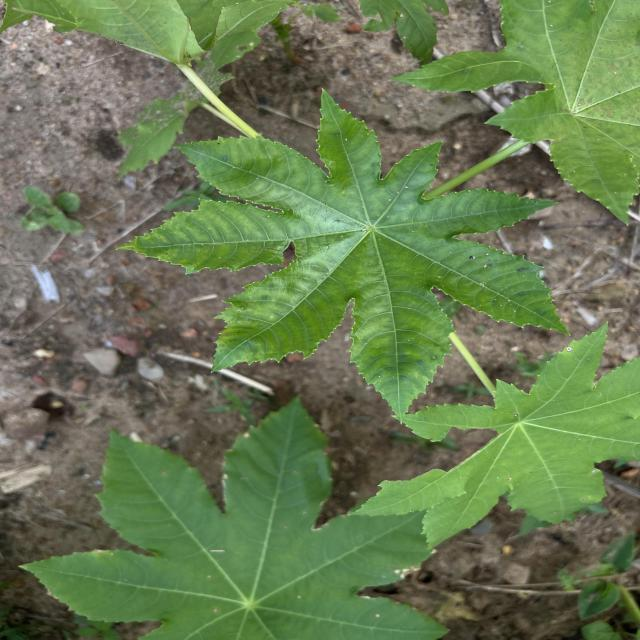Ricinus communis linn: (111, 83, 575, 429)
